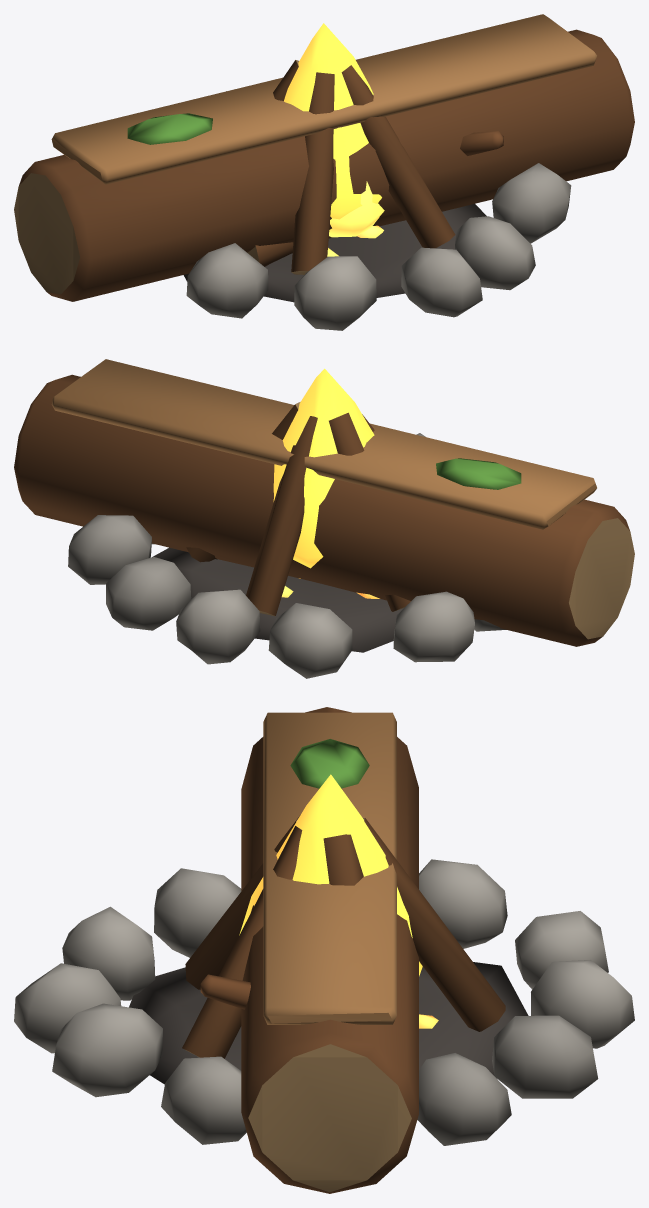
3 renders of one model, top to bottom at view 1: azimuth 30°, elevation 25°; view 2: azimuth 150°, elevation 25°; view 3: azimuth 270°, elevation 25°, orthographic. The views are drawn at different scales.
Parts seen in each view (by area): view 1: campfire_seat, campfire, campfire_flame; view 2: campfire_seat, campfire, campfire_flame; view 3: campfire, campfire_seat, campfire_flame.
Boxes of the visible parts, box(x1,y1,x2,y2) form: campfire_seat: box(14, 14, 634, 301); campfire: box(183, 60, 571, 330); campfire_flame: box(284, 23, 384, 237); campfire_seat: box(14, 359, 634, 646); campfire: box(68, 402, 506, 678); campfire_flame: box(273, 368, 374, 568); campfire: box(14, 815, 634, 1145); campfire_seat: box(200, 707, 418, 1193); campfire_flame: box(239, 774, 422, 976).
Size of the model in its own units: 1.8 by 0.6759 by 1.41.
